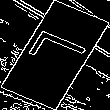L_SE: (19, 30, 91, 80)
